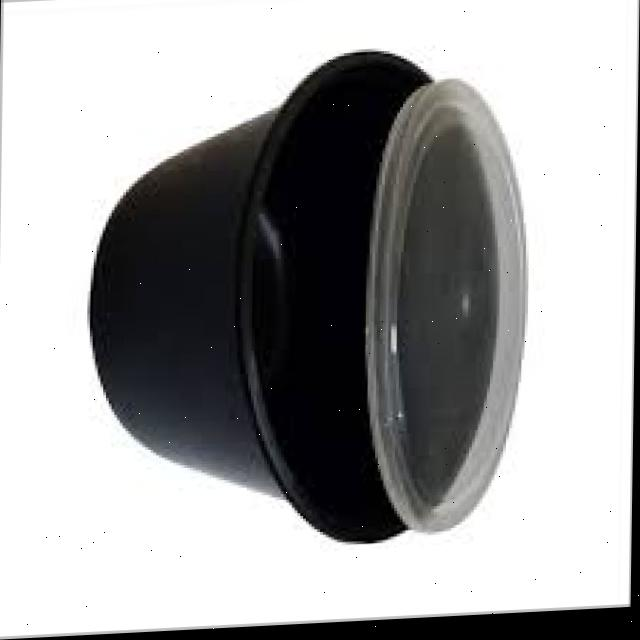disposable: (78, 42, 518, 571)
